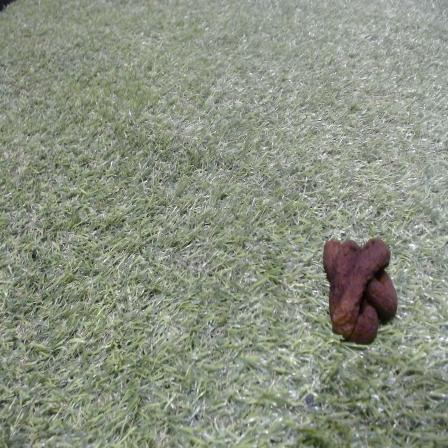dog-poop: (322, 234, 404, 342)
